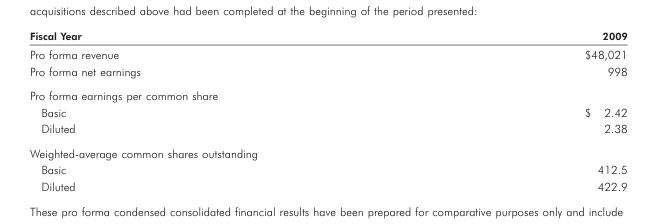table: (28, 29, 626, 192)
table column: (28, 29, 361, 192), (361, 29, 626, 192)
table projected row header: (28, 82, 626, 103), (28, 140, 626, 160)
table row: (28, 82, 626, 103), (28, 119, 626, 140), (28, 62, 626, 82), (28, 140, 626, 160), (28, 44, 626, 62), (28, 160, 626, 177), (28, 103, 626, 119), (28, 29, 626, 44), (28, 177, 626, 192)
